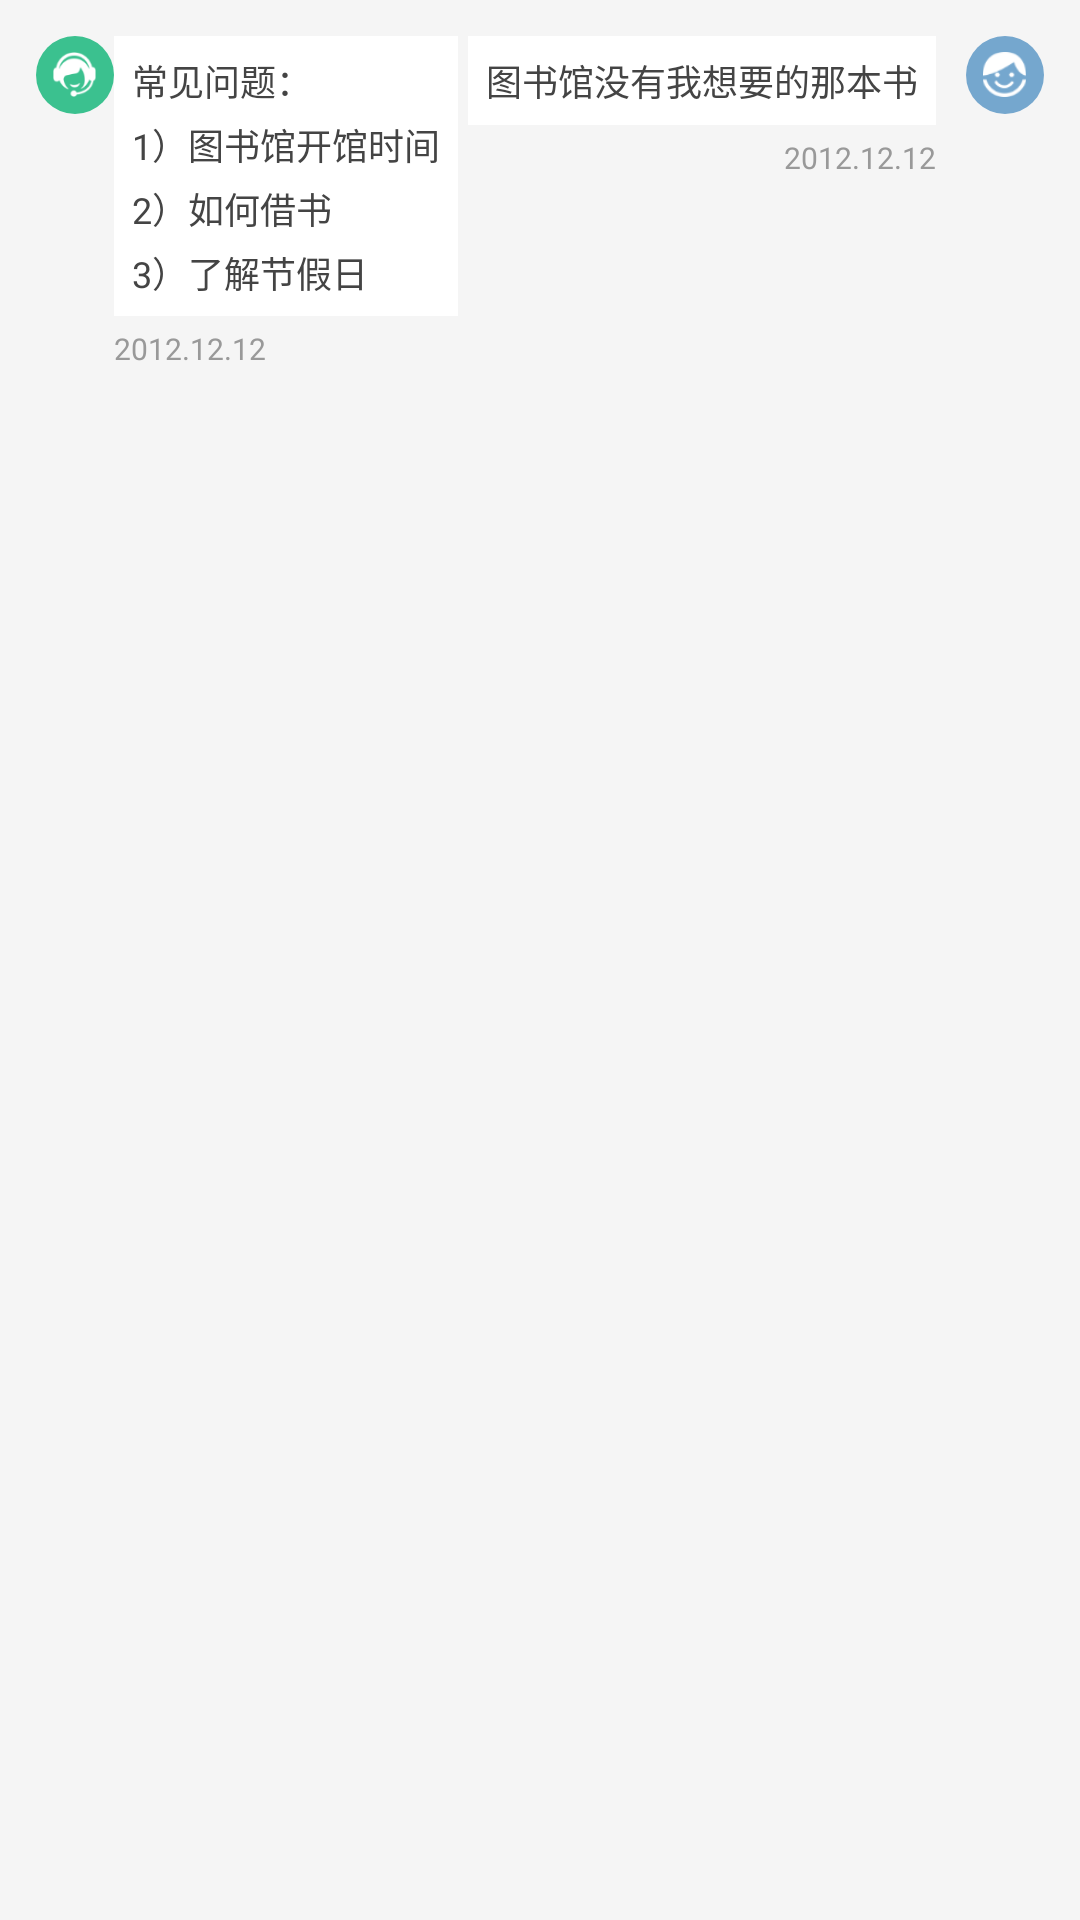

Point at icon controls on the screen. Image size 1080w x 1920h, points as (x=x, y=y).
client: (x=1004, y=74)
service: (x=74, y=74)
